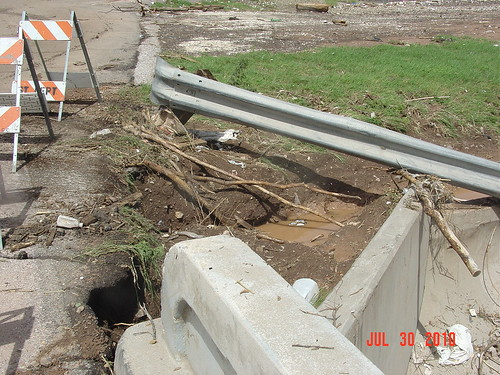damaged: (147, 54, 211, 121)
not_damaged: (256, 90, 349, 154)
